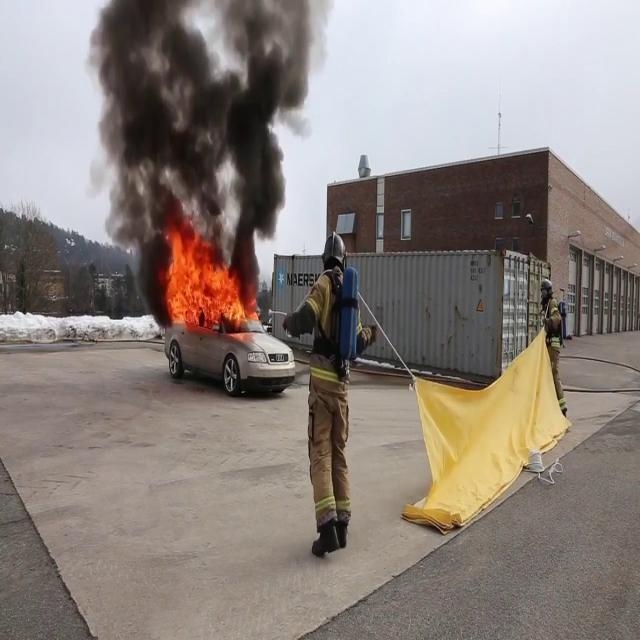Fire: (162, 226, 258, 338)
Smoke: (76, 0, 324, 259)
